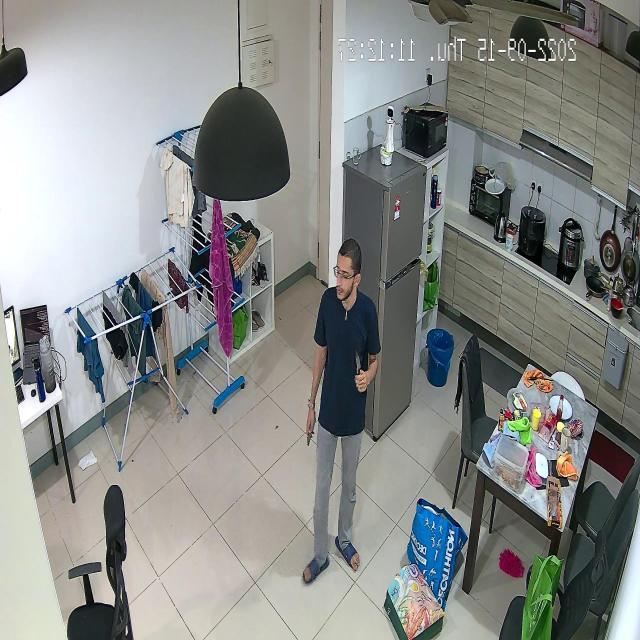Knife: (345, 342, 371, 392)
